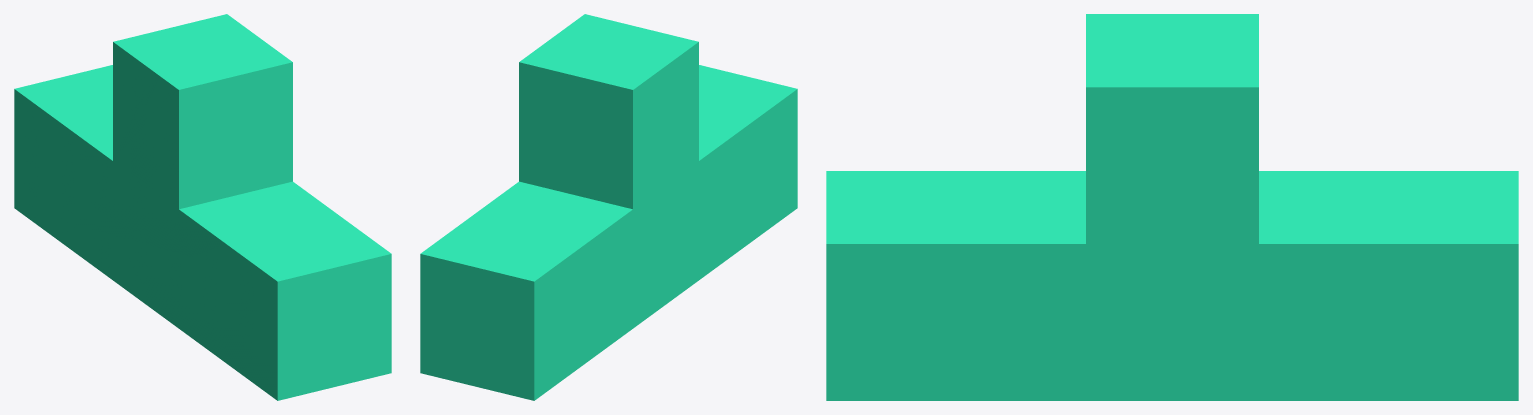
File: turq.fbx
The picture shows the model from 3 angles, left to right: view 1: azimuth 30°, elevation 25°; view 2: azimuth 150°, elevation 25°; view 3: azimuth 270°, elevation 25°; orthographic projection. The views are drawn at different scales.
Parts seen in each view (by area): view 1: cube, cube.000; view 2: cube, cube.000; view 3: cube, cube.000.
Boxes of the visible parts, x1,y1,x2,y2 form: cube: (14, 65, 391, 400); cube.000: (113, 14, 292, 209); cube: (420, 65, 797, 400); cube.000: (519, 14, 698, 209); cube: (826, 171, 1518, 400); cube.000: (1086, 14, 1258, 243).
Bounding box in the file's own units: 12.5 × 25 × 50.
